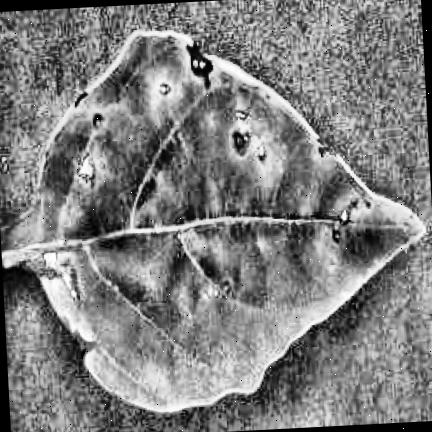leaf: (0, 32, 425, 410)
